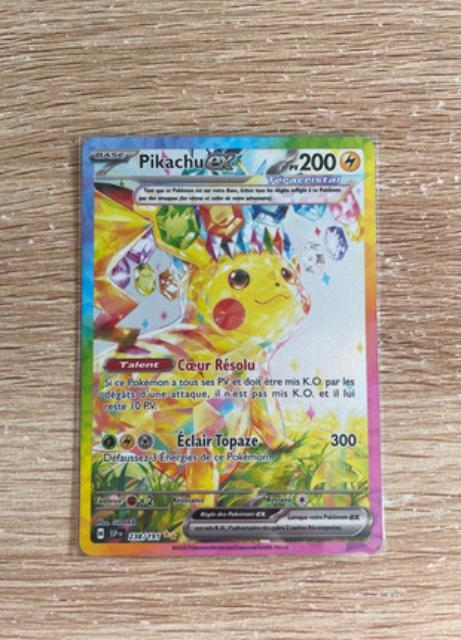Card: (80, 134, 387, 557)
Name: (134, 149, 245, 174)
